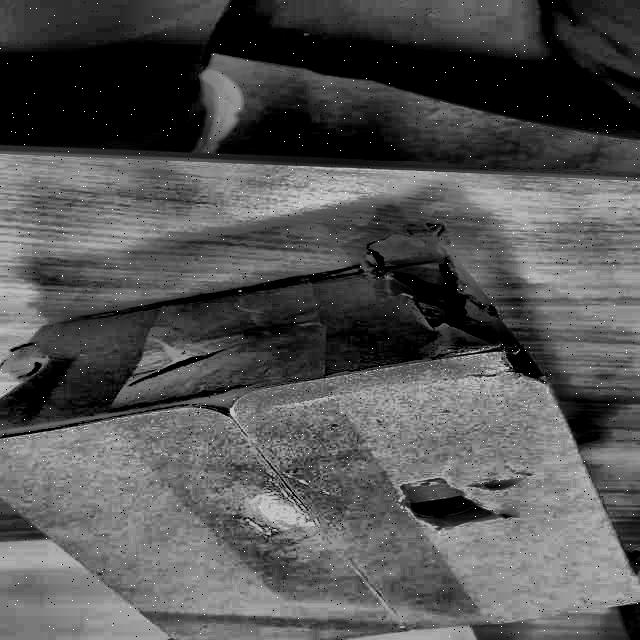box: (1, 212, 640, 640)
hole: (372, 240, 499, 344), (388, 483, 509, 533)
